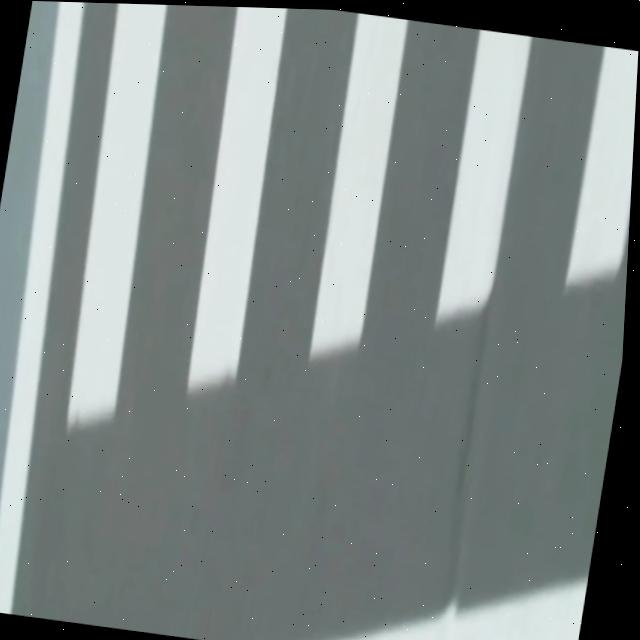left: (0, 2, 83, 614)
